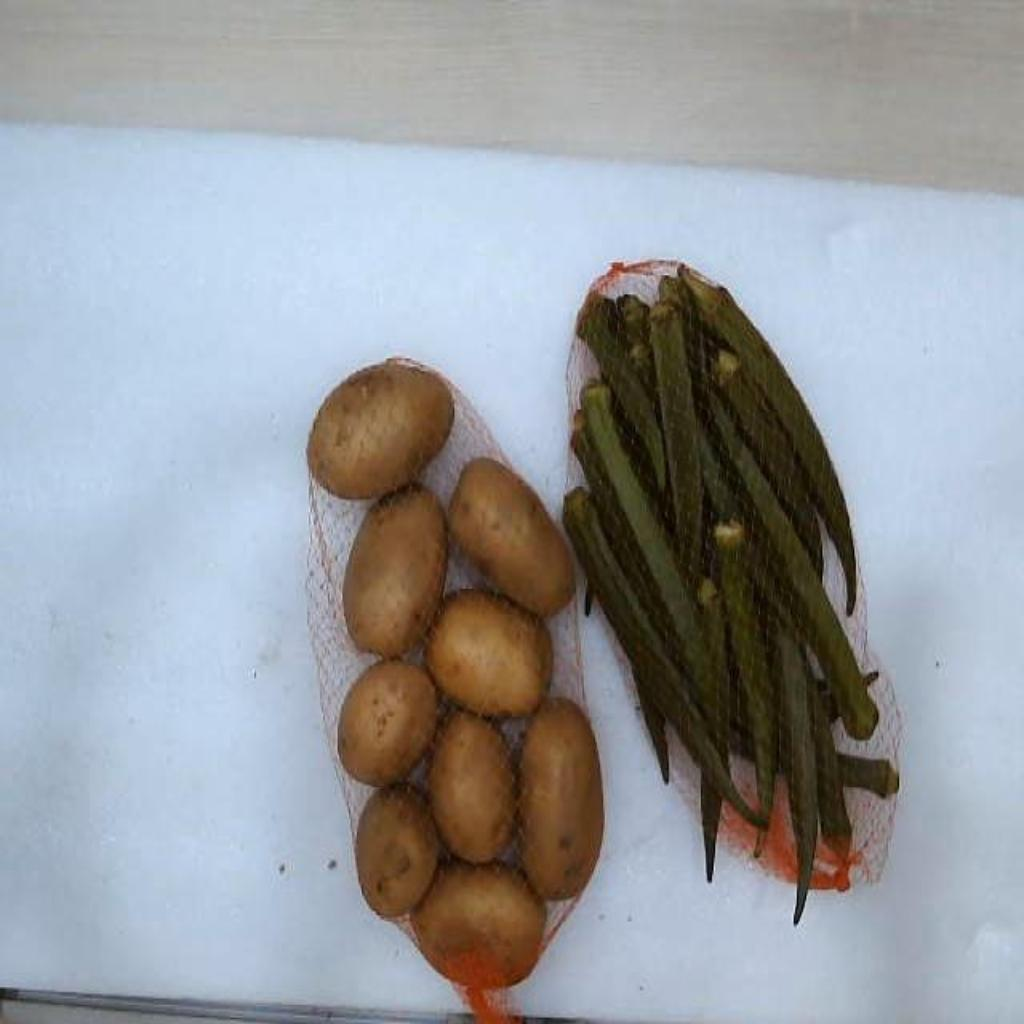potato: (564, 267, 898, 921), (308, 360, 454, 499), (446, 459, 574, 616), (344, 485, 446, 657), (410, 864, 546, 988), (518, 699, 602, 897), (424, 595, 552, 716), (428, 709, 514, 863), (338, 659, 438, 785), (356, 784, 440, 917)
